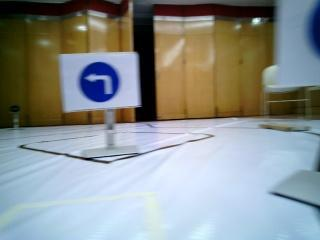left: (57, 55, 136, 107)
